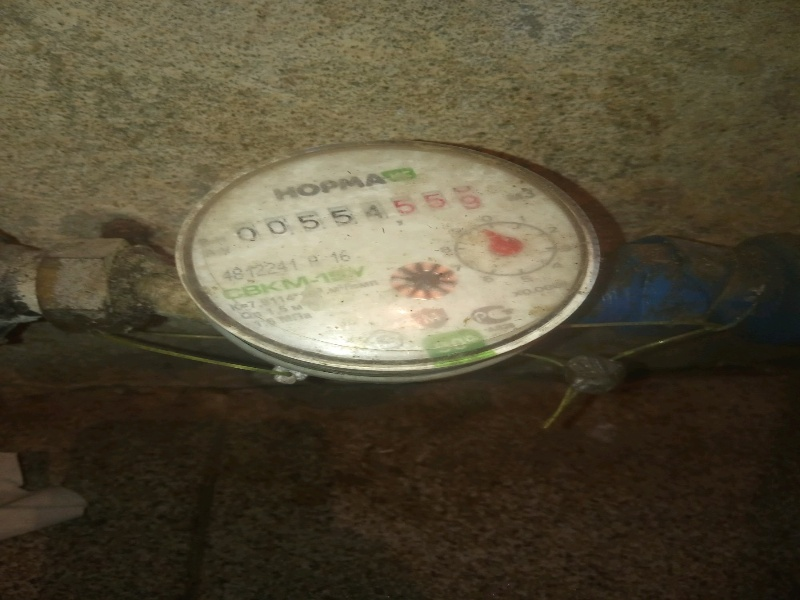dial: (222, 188, 483, 245)
